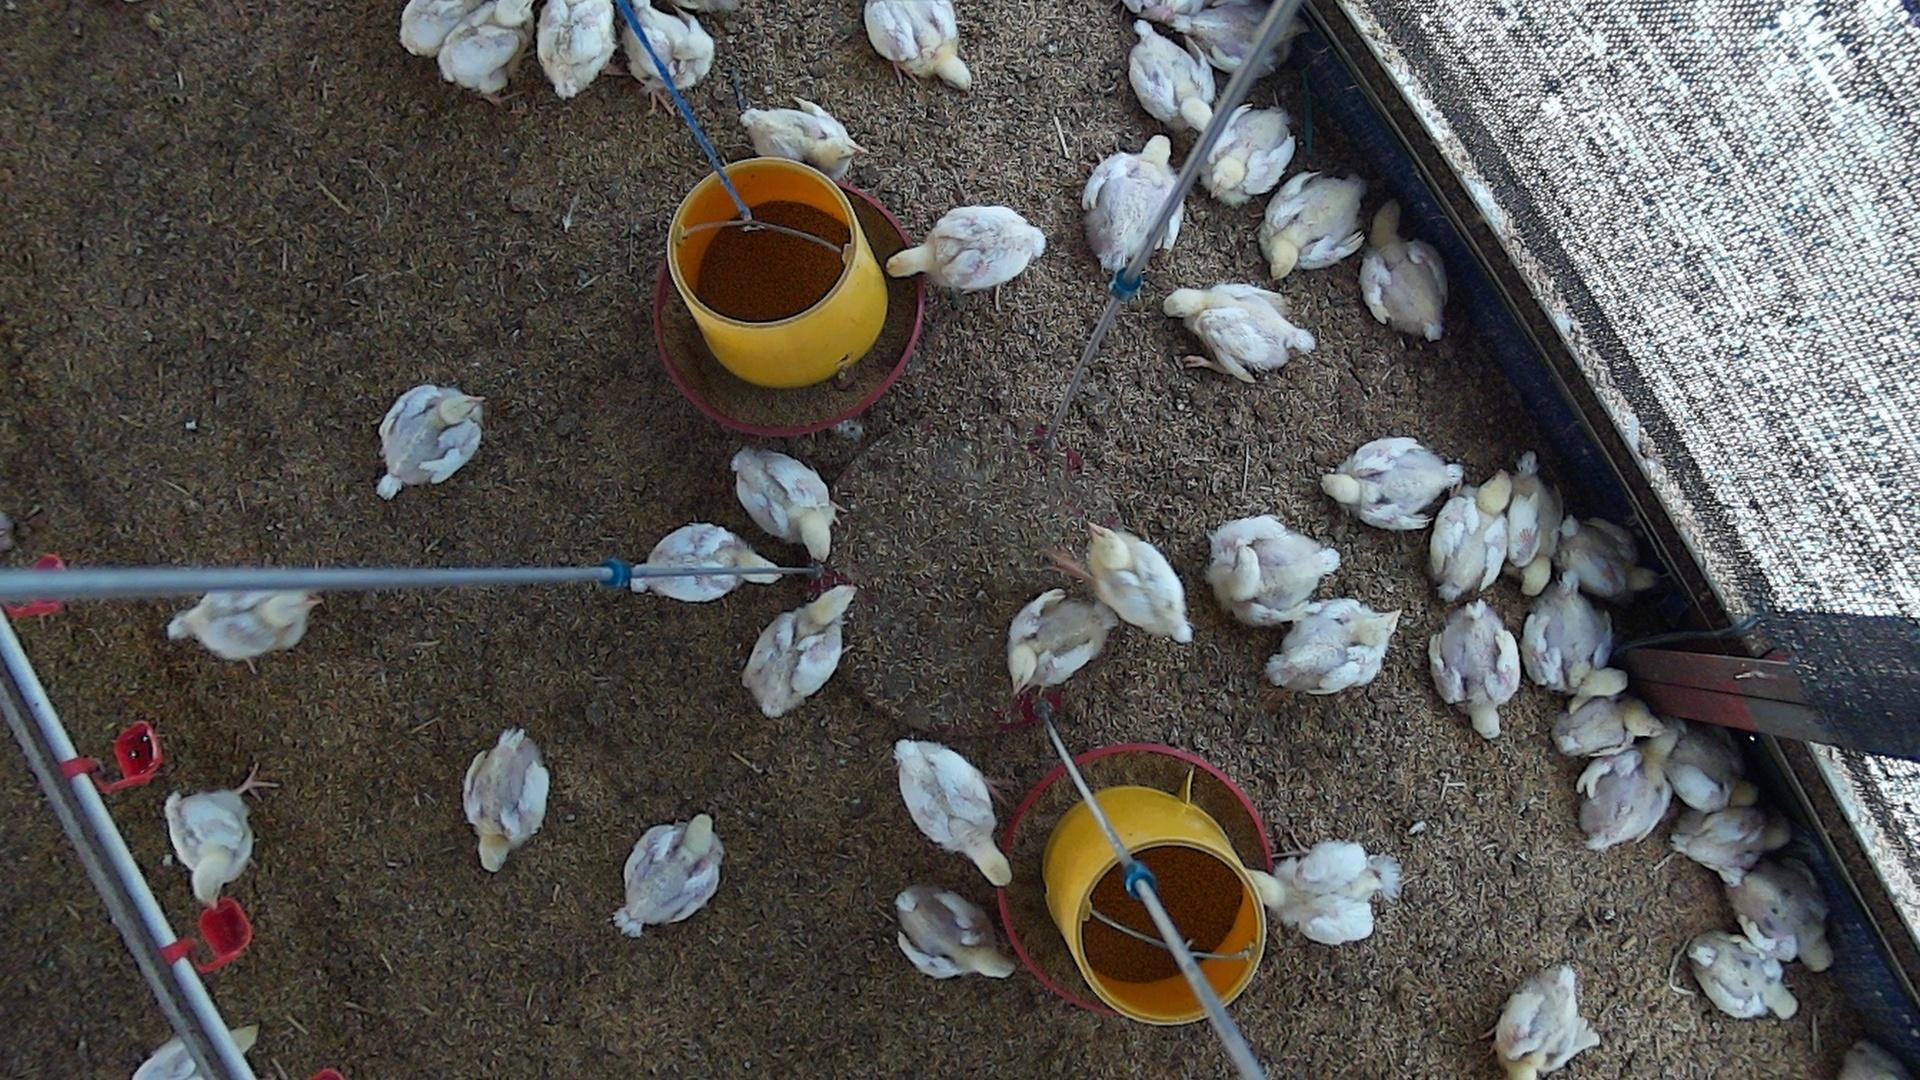ayam_broiler: (1238, 840, 1400, 947), (895, 740, 1013, 885), (741, 584, 855, 716), (1166, 282, 1317, 380), (1207, 516, 1342, 621), (1084, 132, 1182, 276), (885, 204, 1046, 290), (616, 811, 723, 935), (1321, 436, 1464, 527), (1429, 600, 1522, 737), (1266, 597, 1399, 692), (1084, 526, 1189, 642), (464, 727, 549, 870), (376, 382, 483, 496), (1361, 199, 1447, 340), (1494, 964, 1598, 1080), (731, 446, 835, 560), (167, 583, 319, 659), (1009, 585, 1117, 692), (1578, 732, 1676, 848), (636, 524, 781, 601), (1429, 468, 1514, 600), (1523, 578, 1617, 695), (895, 885, 1014, 977), (439, 0, 537, 112), (1261, 174, 1366, 277), (1731, 868, 1833, 972), (165, 785, 252, 906), (1193, 104, 1295, 206), (1189, 0, 1312, 83), (1129, 22, 1216, 133), (864, 0, 972, 87), (1672, 807, 1792, 884), (1691, 934, 1796, 1019), (740, 103, 857, 177), (1505, 455, 1567, 595), (1560, 513, 1656, 599), (625, 1, 715, 91), (537, 0, 616, 98), (1668, 732, 1758, 811), (1553, 692, 1654, 756), (400, 0, 483, 55)
